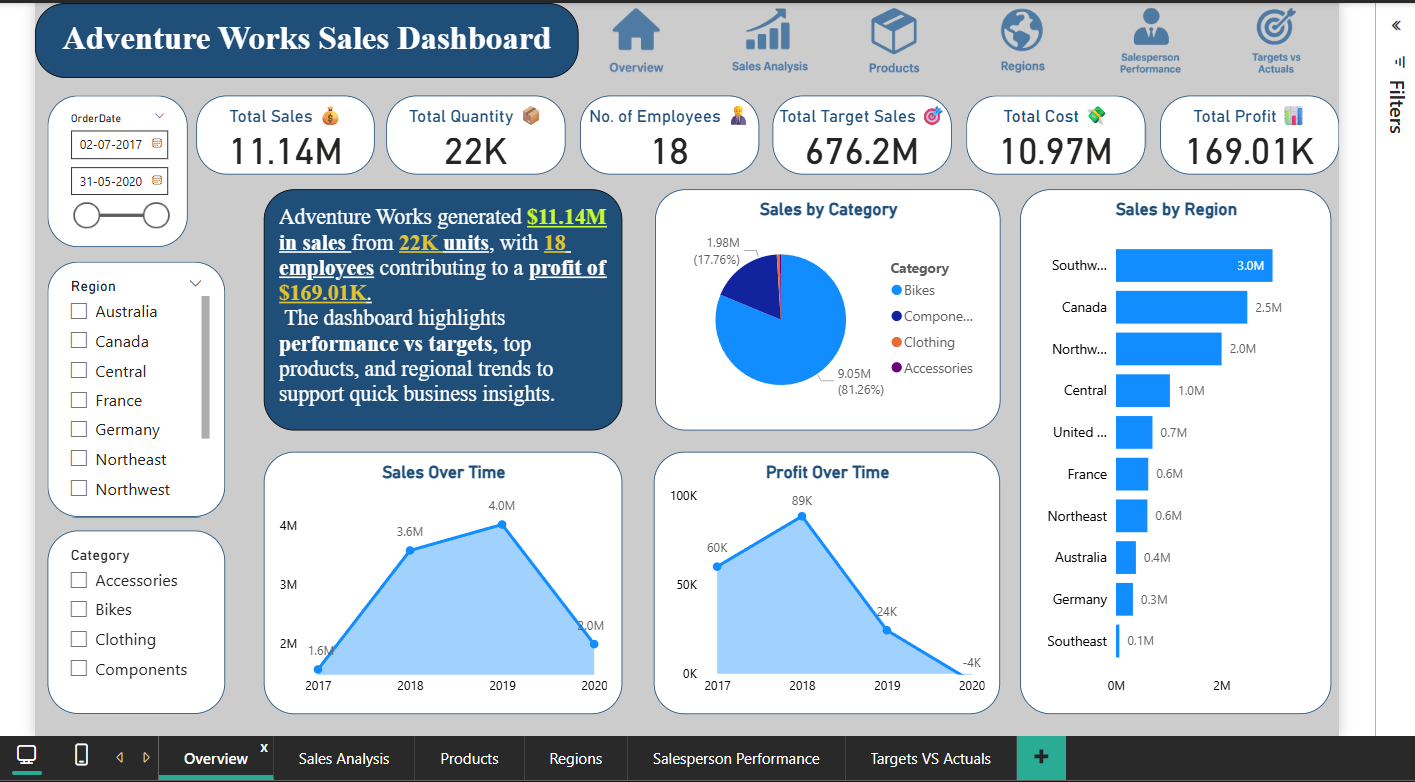

What the dashboard file says about the page in this screenshot:
{"tool":"powerbi","page":{"name":"Overview","canvas":[1280,720],"ordinal":0},"visuals":[{"type":"textbox","box":[0,0,533.7,73.6],"z":0},{"type":"image","box":[521.5,0,138.5,73.6],"z":0,"group":"g2"},{"type":"card","title":"Total Sales 💰","fields":{"Values":["adventure_works sales.Total Sales"]},"box":[158.3,90.8,175.2,77.9],"z":0,"group":"g1"},{"type":"image","box":[660,0,122.9,73.6],"z":1000,"group":"g2"},{"type":"group","id":"g1","title":"Group 1","box":[158.3,90.8,1121.5,78.5],"z":1000},{"type":"card","title":"Total Quantity 📦","fields":{"Values":["Sum(adventure_works sales.Quantity)"]},"box":[345,91.4,175.6,77.9],"z":1000,"group":"g1"},{"type":"group","id":"g2","title":"Group 2","box":[521.5,0,758.3,73.6],"z":2000},{"type":"image","box":[782.9,0,122.9,73.6],"z":2000,"group":"g2"},{"type":"card","title":"No. of Employees 👨💼","fields":{"Values":["Count(adventure_works salesperson.EmployeeID)"]},"box":[534.4,91.4,175.6,77.9],"z":2000,"group":"g1"},{"type":"image","box":[905.8,0,128.1,73.6],"z":3000,"group":"g2"},{"type":"card","title":"Total Target Sales 🎯","fields":{"Values":["Sum(adventure_works targets.Target)"]},"box":[723.9,91.4,175.6,77.9],"z":3000,"group":"g1"},{"type":"barChart","title":"Sales by Region","fields":{"Y":["Sum(adventure_works sales.Sales)"],"Category":["adventure_works region.Region"]},"box":[966.9,182.8,305.5,515.3],"z":3000},{"type":"image","box":[1033.9,0,122.9,73.6],"z":4000,"group":"g2"},{"type":"slicer","fields":{"Values":["adventure_works sales.OrderDate"]},"box":[12.3,90.8,137.4,148.5],"z":4000},{"type":"card","title":"Total Cost 💸","fields":{"Values":["Sum(adventure_works sales.Cost)"]},"box":[914.7,91.4,175.6,77.9],"z":4000,"group":"g1"},{"type":"image","box":[1156.9,0,122.9,73.6],"z":5000,"group":"g2"},{"type":"card","title":"Total Profit 📊","fields":{"Values":["adventure_works sales.Total Profit"]},"box":[1104.2,91.4,175.6,77.9],"z":5000,"group":"g1"},{"type":"slicer","fields":{"Values":["adventure_works region.Region"]},"box":[12.3,254,174.2,250.3],"z":5000},{"type":"slicer","fields":{"Values":["adventure_works product.Category"]},"box":[12.3,517.8,174.2,180.4],"z":6000},{"type":"textbox","box":[224.5,182.8,352.1,236.8],"z":7000},{"type":"areaChart","title":"Sales Over Time","fields":{"Category":["adventure_works sales.OrderDate.Variation.Date Hierarchy.Year"],"Y":["Sum(adventure_works sales.Sales)"]},"box":[224.5,440.5,352.1,257.7],"z":8000},{"type":"areaChart","title":"Profit Over Time","fields":{"Category":["adventure_works sales.OrderDate.Variation.Date Hierarchy.Year"],"Y":["adventure_works sales.Total Profit"]},"box":[607.4,440.5,339.9,257.7],"z":9000},{"type":"pieChart","title":"Sales by Category","fields":{"Y":["Sum(adventure_works sales.Sales)"],"Category":["adventure_works product.Category"]},"box":[608,182.3,339.5,236.5],"z":10000}]}

Visuals, with their boxes on the page's 1280x720 design canvas (x1, y1, x2, y2). These are canvas units, not pixel positions in the 1415x782 screenshot, which may show the page scaled, cropped or inside an application window:
textbox: {"left": 0, "top": 0, "right": 534, "bottom": 74}
image: {"left": 522, "top": 0, "right": 660, "bottom": 74}
"Total Sales 💰" card: {"left": 158, "top": 91, "right": 334, "bottom": 169}
image: {"left": 660, "top": 0, "right": 783, "bottom": 74}
"Group 1" group: {"left": 158, "top": 91, "right": 1280, "bottom": 169}
"Total Quantity 📦" card: {"left": 345, "top": 91, "right": 521, "bottom": 169}
"Group 2" group: {"left": 522, "top": 0, "right": 1280, "bottom": 74}
image: {"left": 783, "top": 0, "right": 906, "bottom": 74}
"No. of Employees 👨💼" card: {"left": 534, "top": 91, "right": 710, "bottom": 169}
image: {"left": 906, "top": 0, "right": 1034, "bottom": 74}
"Total Target Sales 🎯" card: {"left": 724, "top": 91, "right": 900, "bottom": 169}
"Sales by Region" barChart: {"left": 967, "top": 183, "right": 1272, "bottom": 698}
image: {"left": 1034, "top": 0, "right": 1157, "bottom": 74}
slicer - adventure_works sales.OrderDate: {"left": 12, "top": 91, "right": 150, "bottom": 239}
"Total Cost 💸" card: {"left": 915, "top": 91, "right": 1090, "bottom": 169}
image: {"left": 1157, "top": 0, "right": 1280, "bottom": 74}
"Total Profit 📊" card: {"left": 1104, "top": 91, "right": 1280, "bottom": 169}
slicer - adventure_works region.Region: {"left": 12, "top": 254, "right": 186, "bottom": 504}
slicer - adventure_works product.Category: {"left": 12, "top": 518, "right": 186, "bottom": 698}
textbox: {"left": 224, "top": 183, "right": 577, "bottom": 420}
"Sales Over Time" areaChart: {"left": 224, "top": 440, "right": 577, "bottom": 698}
"Profit Over Time" areaChart: {"left": 607, "top": 440, "right": 947, "bottom": 698}
"Sales by Category" pieChart: {"left": 608, "top": 182, "right": 948, "bottom": 419}
